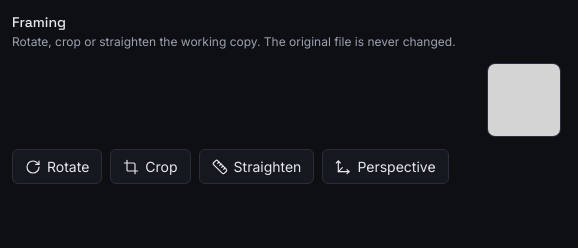
GeometryTools › keeps Apply crop disabled until an area is drawn
This screenshot has width=578, height=248.
Click the button "Crop" at [150, 166], box x1=110 y1=149 x2=190 y2=184
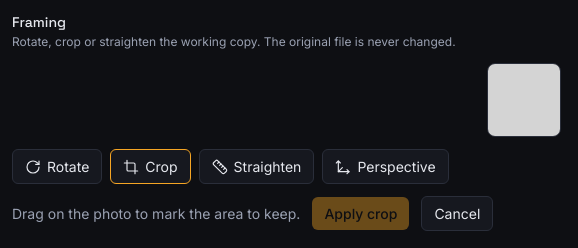
Result: the button "Apply crop" is disabled at x1=312 y1=197 x2=409 y2=230
Result: the text "Drag on the photo to mark the area to keep." is shown at x1=12 y1=203 x2=300 y2=224
